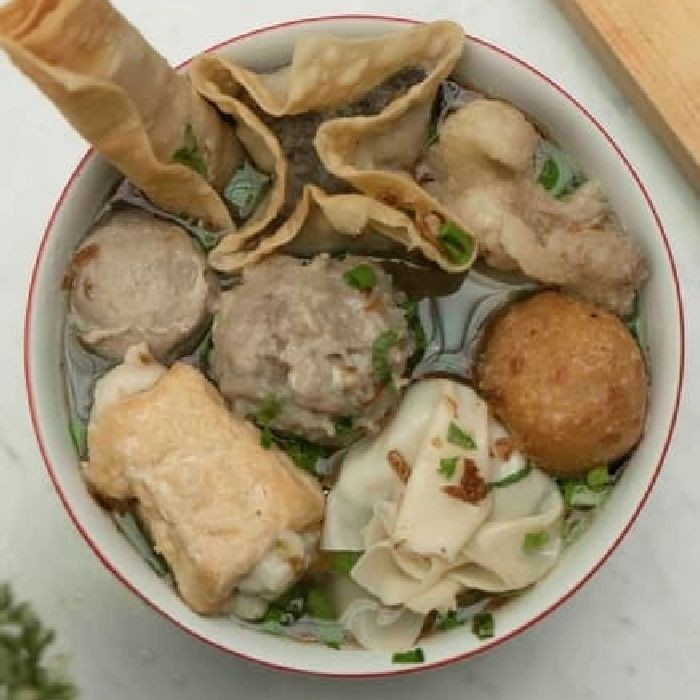bakso_malang: (61, 23, 651, 648)
